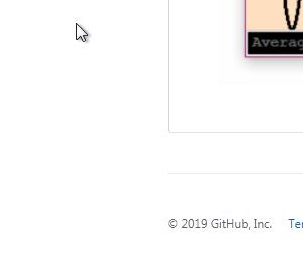cursor: (75, 21, 89, 43)
